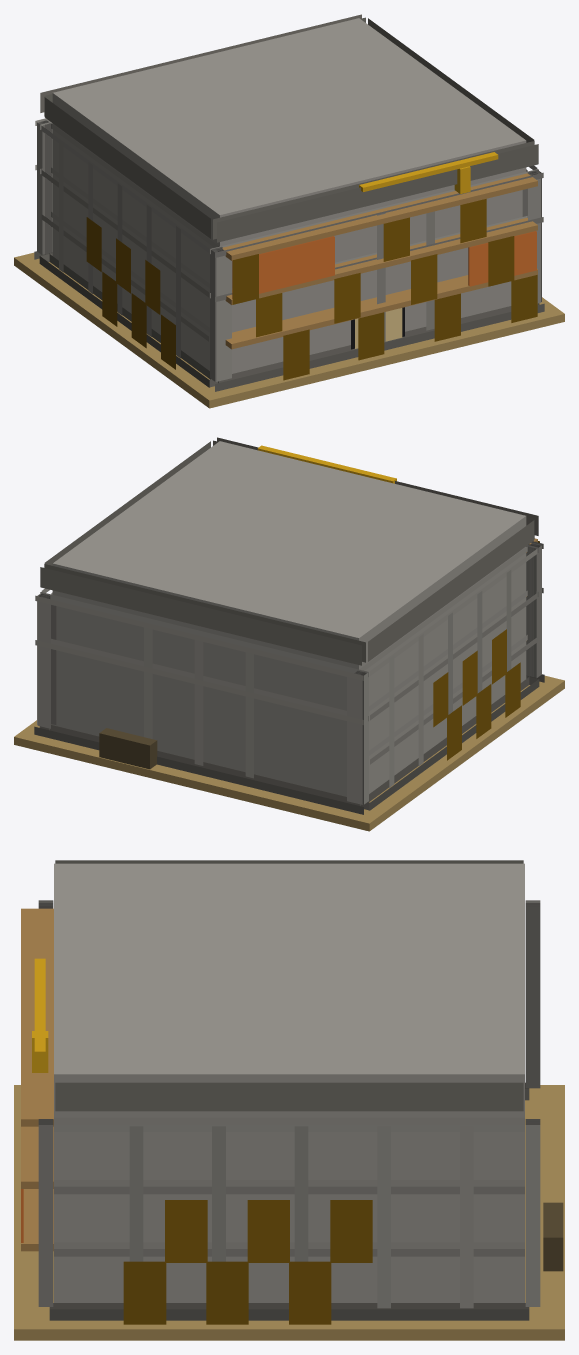
The model's file is PanicConeSil.fbx.
The picture shows the model from 3 angles, top to bottom: view 1: azimuth 30°, elevation 25°; view 2: azimuth 150°, elevation 25°; view 3: azimuth 270°, elevation 25°; orthographic projection. The views are drawn at different scales.
Parts seen in each view (by area): view 1: PC_S_All; view 2: PC_S_All; view 3: PC_S_All.
Boxes of the visible parts, bbox=[...] form: PC_S_All: bbox=[14, 14, 564, 408]; PC_S_All: bbox=[14, 437, 564, 831]; PC_S_All: bbox=[14, 860, 564, 1340].
Size of the model in its own units: 42.04 by 20 by 40.04.
